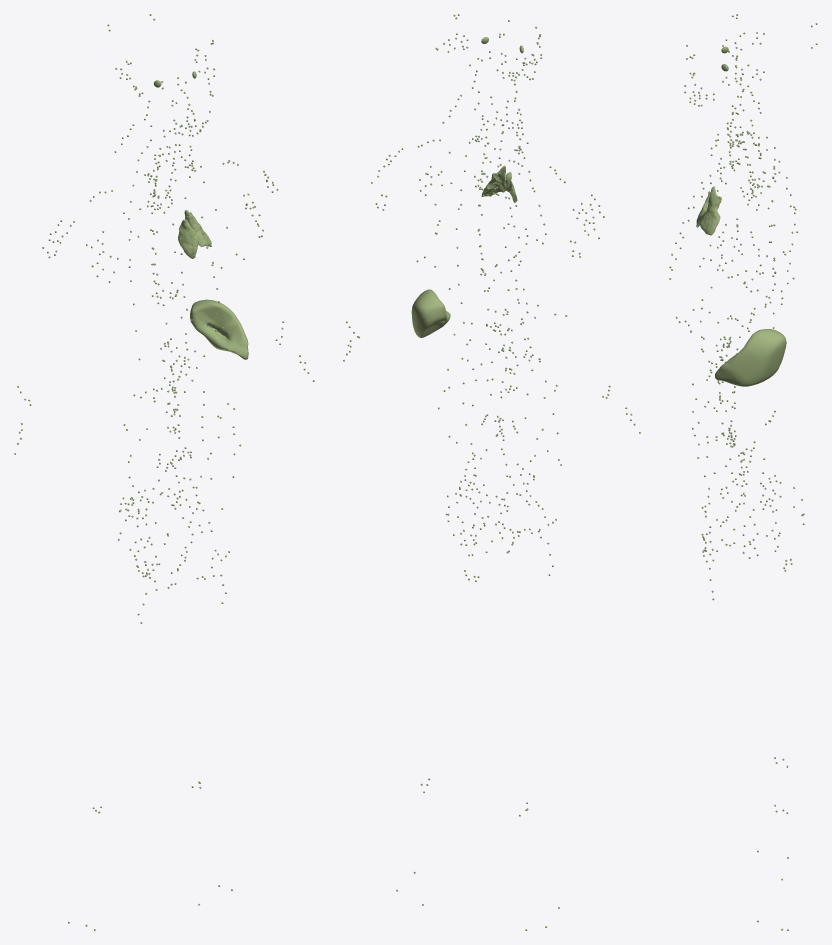
File: lymphatic.glb
The picture shows the model from 3 angles, left to right: view 1: azimuth 30°, elevation 25°; view 2: azimuth 150°, elevation 25°; view 3: azimuth 270°, elevation 25°; orthographic projection.
Parts seen in each view (by area): view 1: za-ee4b9c9d9e5d4898; view 2: za-ee4b9c9d9e5d4898; view 3: za-ee4b9c9d9e5d4898, za-ce0542cfa1aa619e.
Boxes of the visible parts, x1,y1,x2,y2 form: za-ee4b9c9d9e5d4898: (190, 299, 248, 359); za-ee4b9c9d9e5d4898: (411, 289, 450, 337); za-ee4b9c9d9e5d4898: (715, 329, 786, 386); za-ce0542cfa1aa619e: (699, 186, 721, 235).
Size of the model in its own units: 0.4523 by 1.28 by 0.1963.
